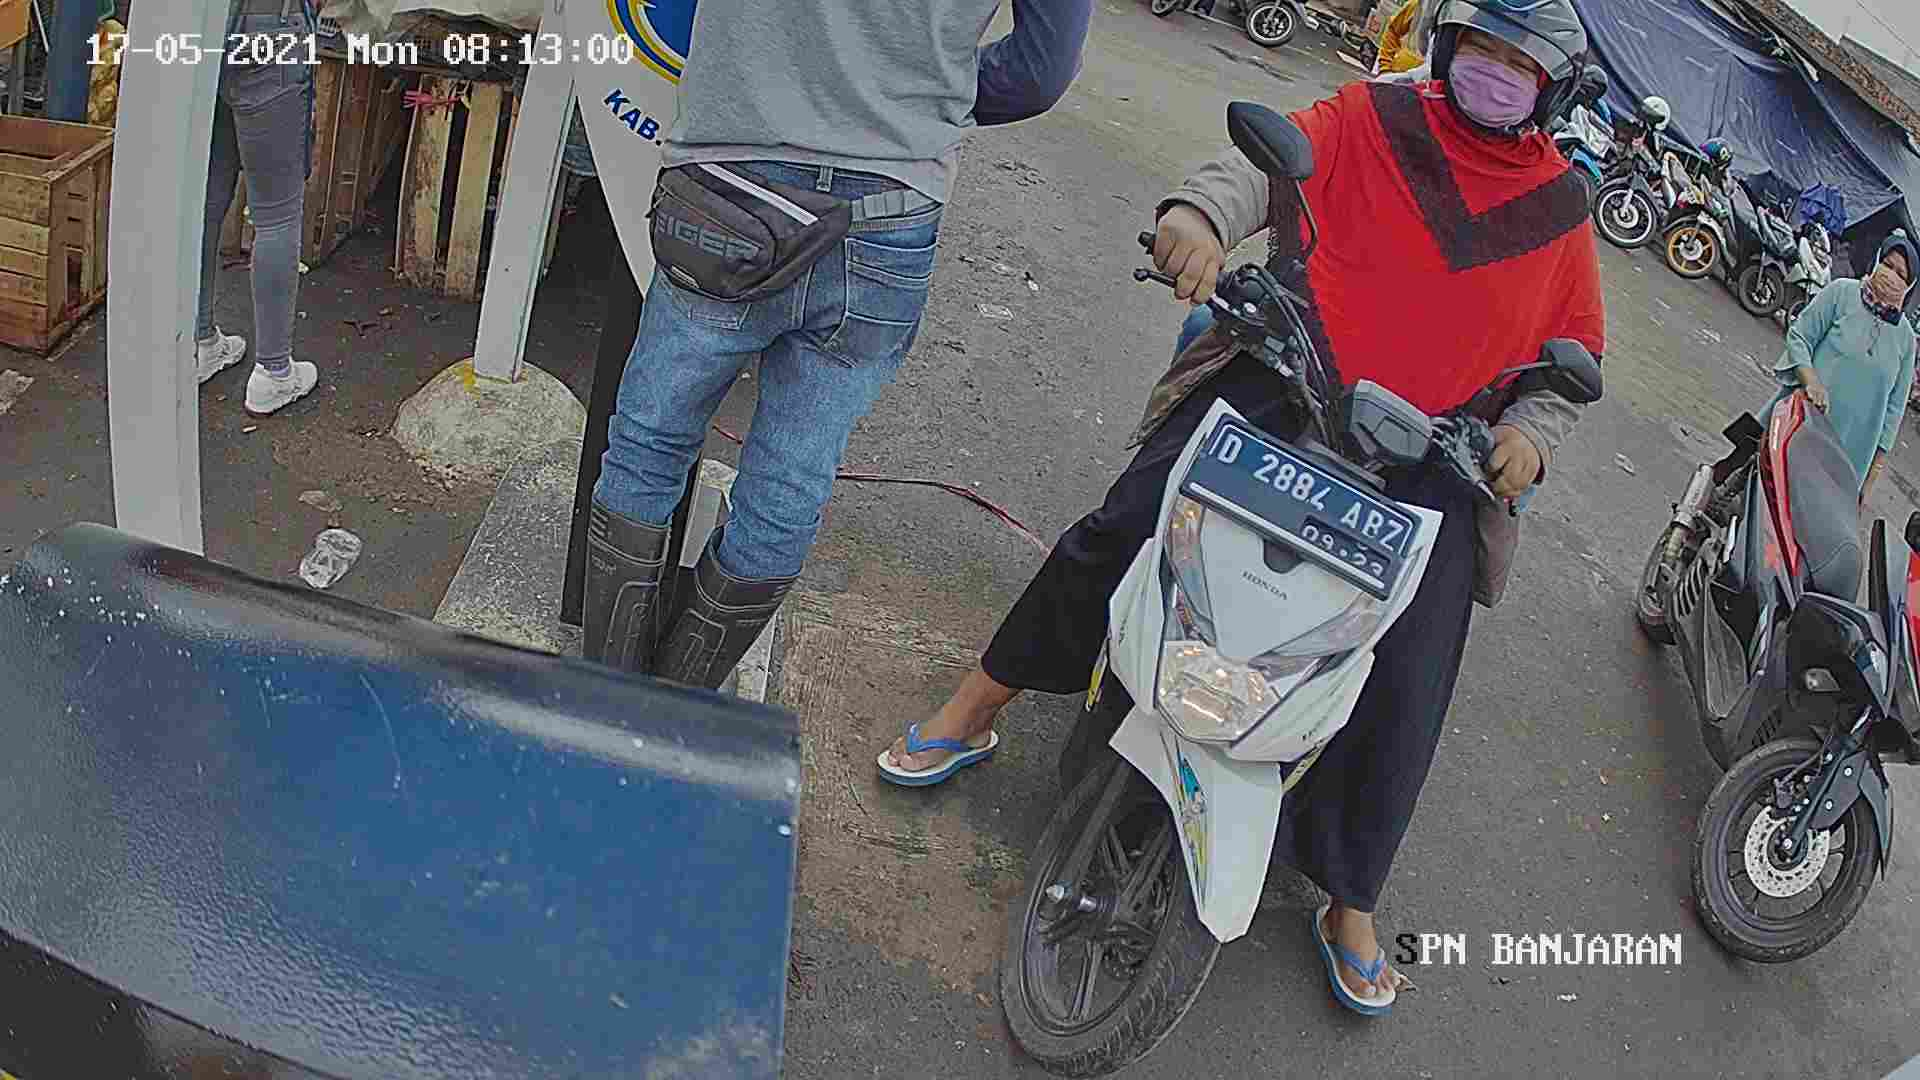motor: (1000, 315, 1474, 1067), (1667, 378, 1920, 951)
